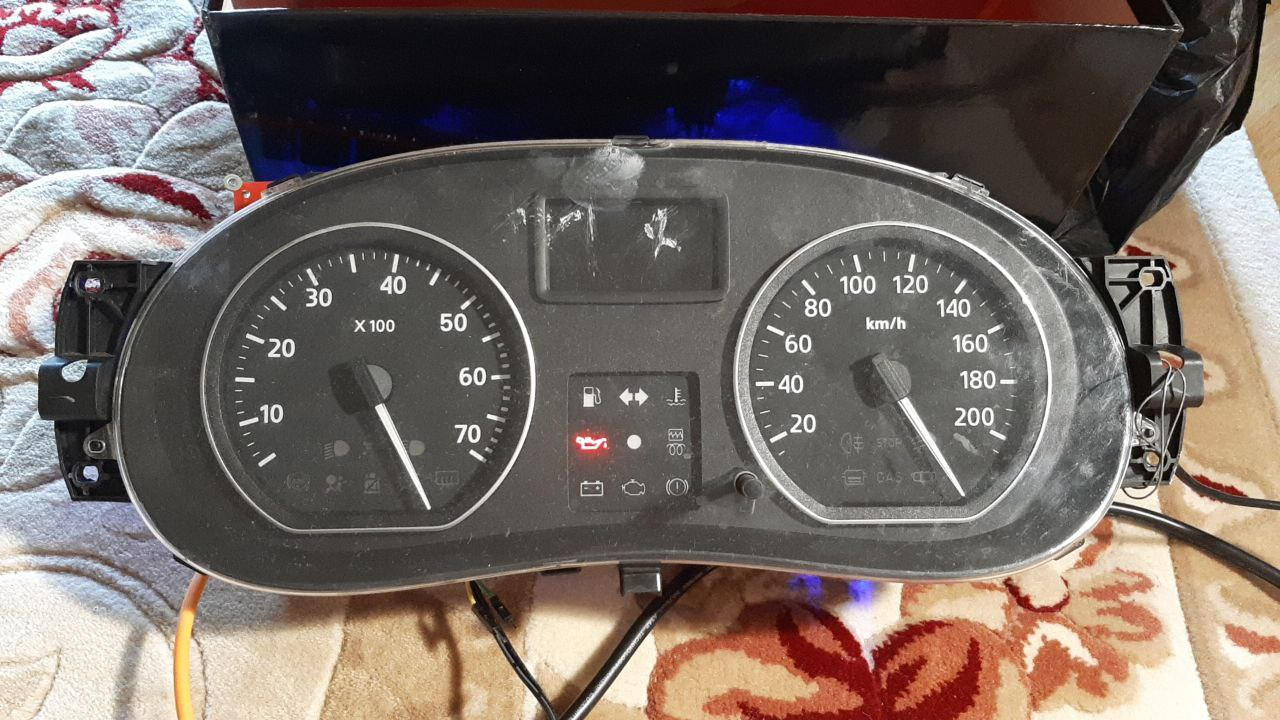oil: (572, 428, 613, 458)
